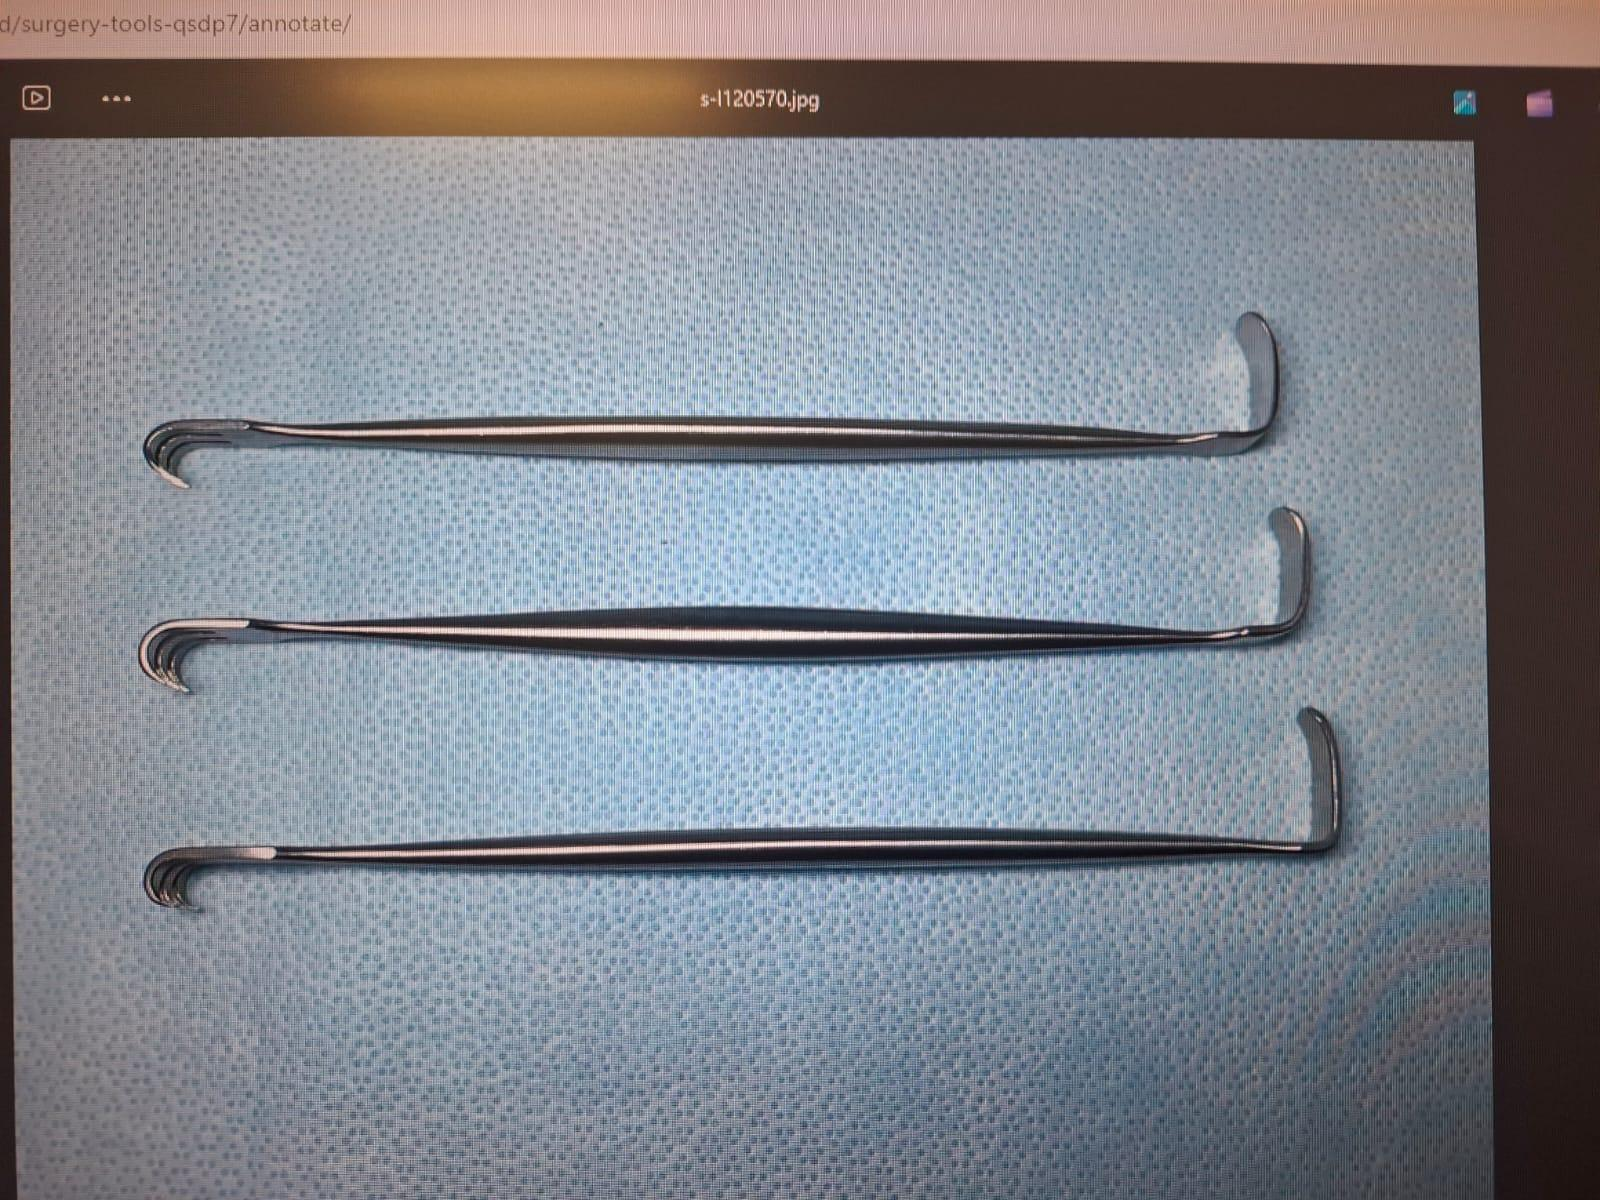Senn Retractor: (123, 678, 1348, 937), (134, 290, 1300, 516), (136, 495, 1318, 705)
